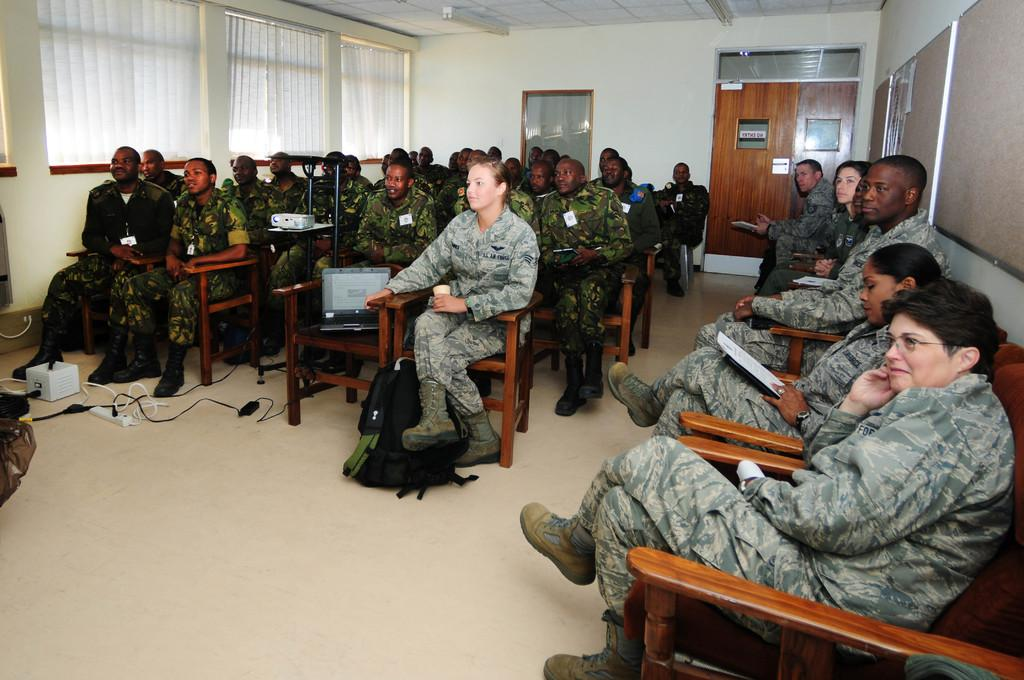Chair: (622, 359, 1023, 679), (388, 284, 543, 468)
Laptop: (319, 265, 391, 333)
Luggage-and-bags: (340, 353, 479, 500)
